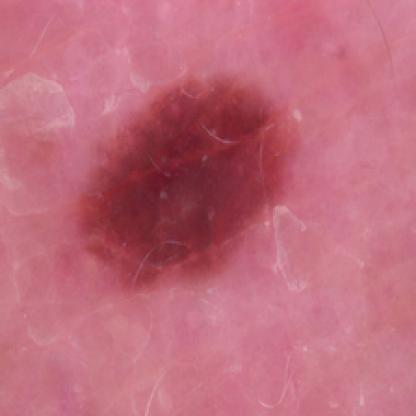benign: (71, 67, 295, 278)
